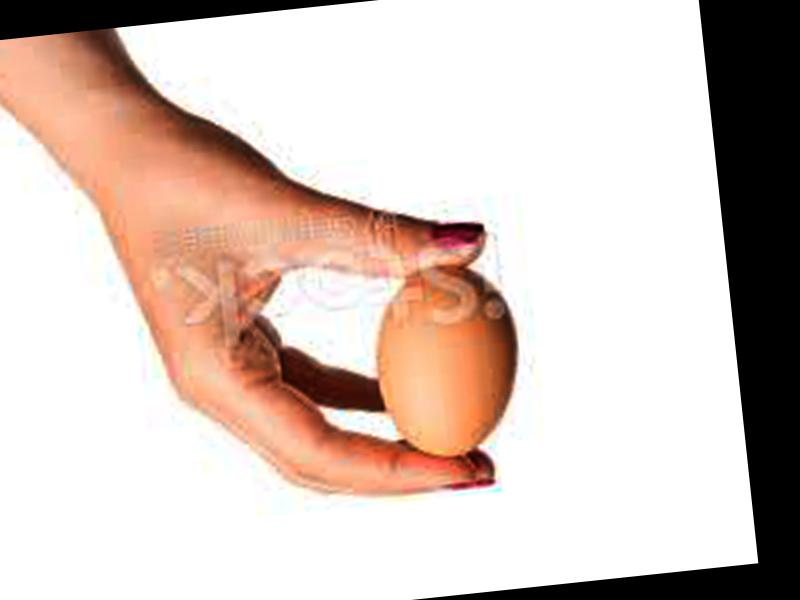Eggs: (369, 258, 522, 462)
